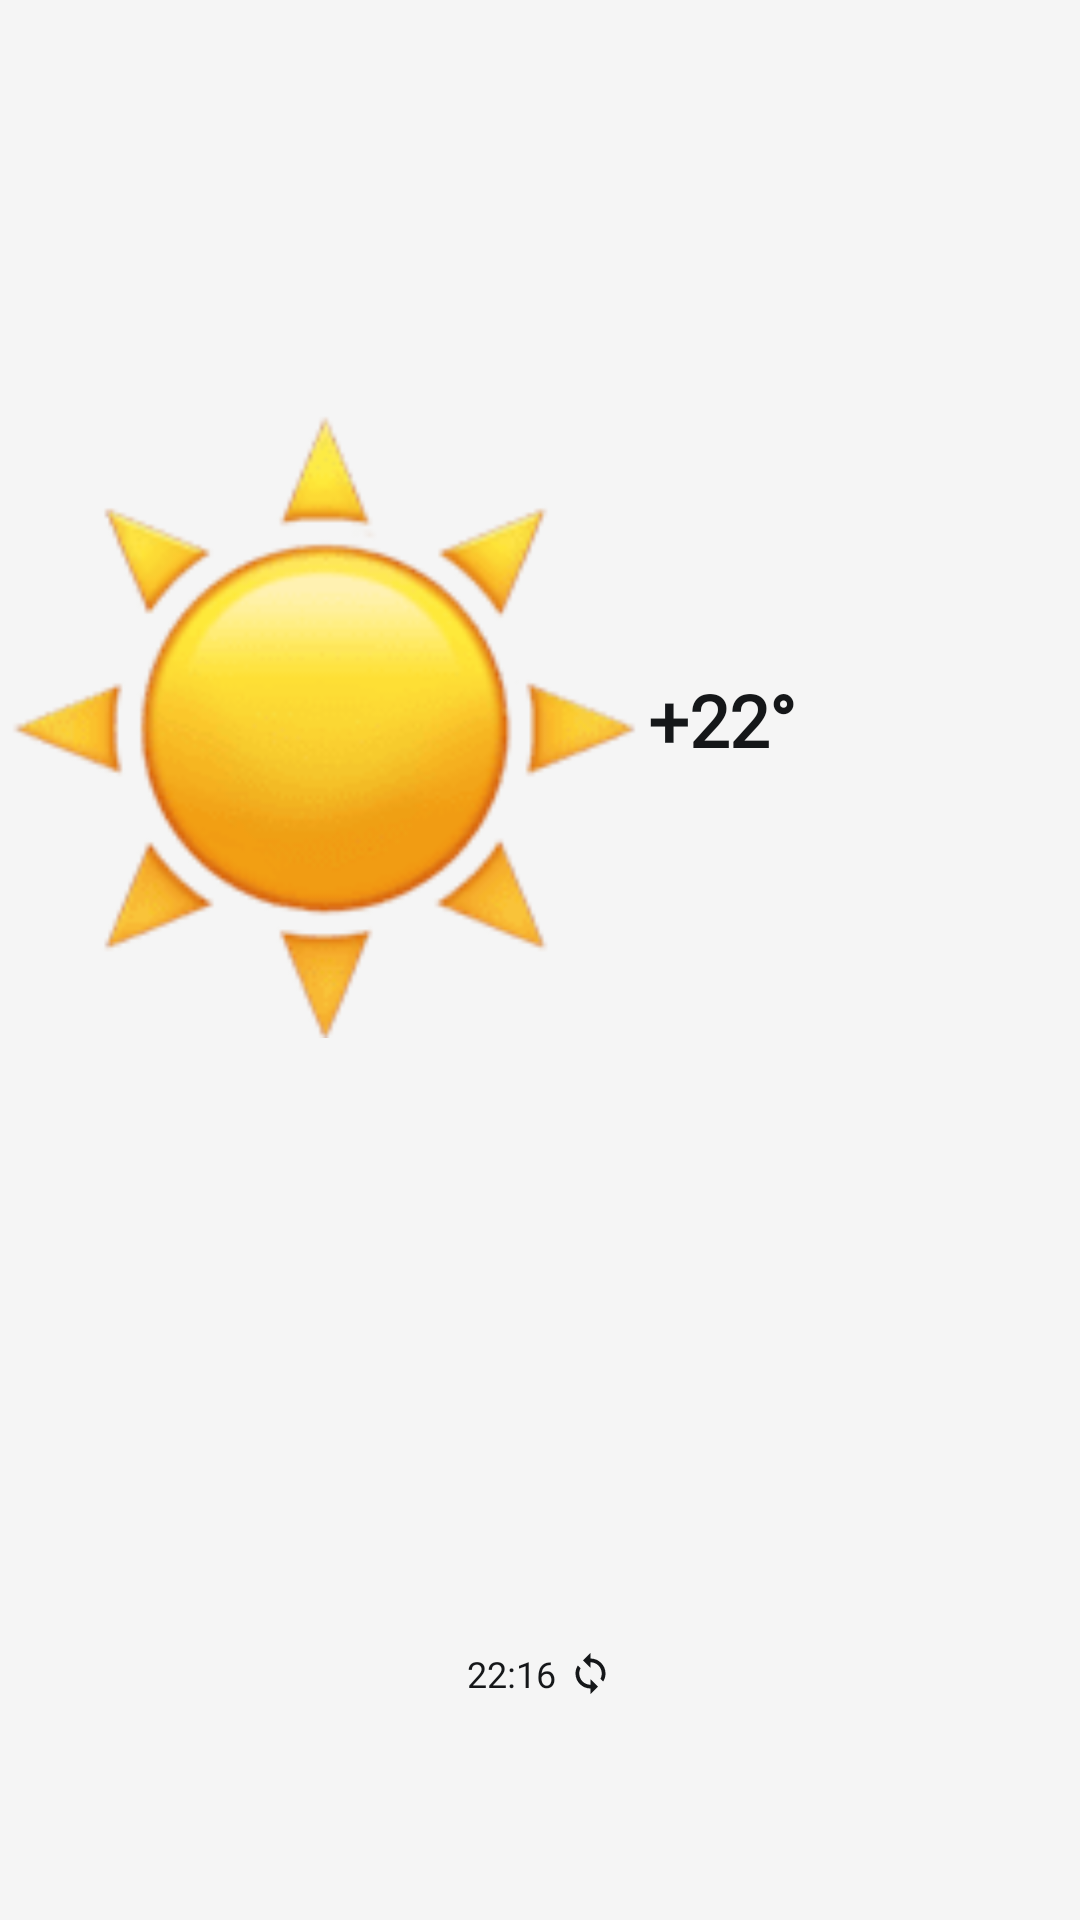

Screen size 1080 × 1920. Icon name, then its box in pixels as (x1, y1, x2, y2):
sync: (575, 1653, 606, 1694)
